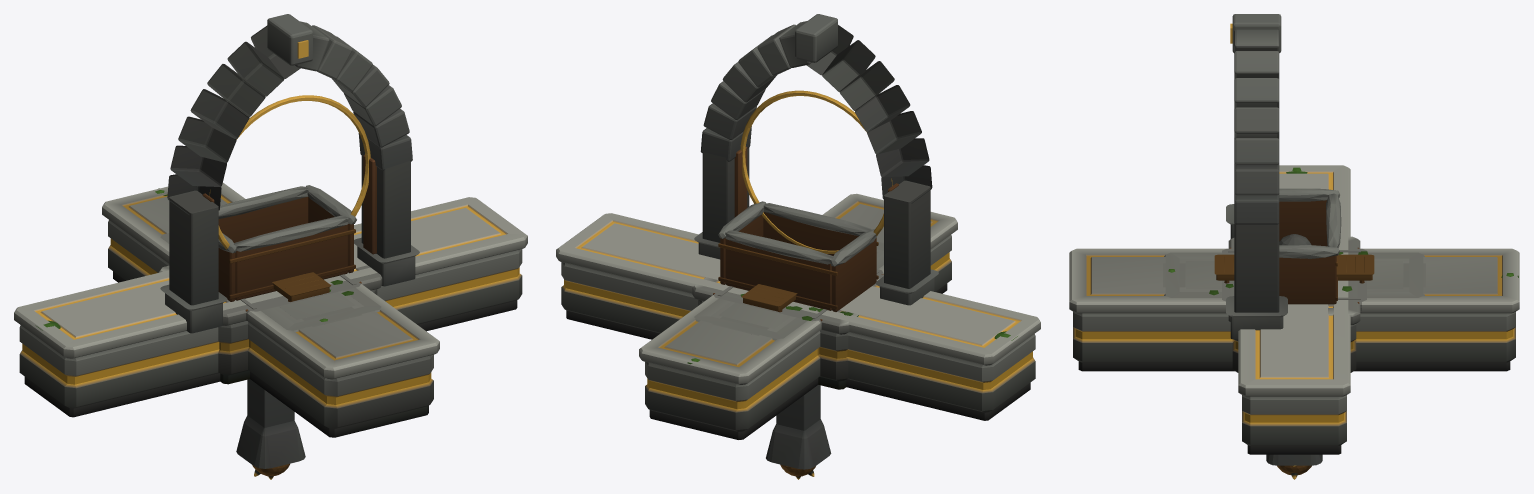
The model's file is temple-2-Drd0SEzF.glb.
3 renders of one model, left to right at view 1: azimuth 30°, elevation 25°; view 2: azimuth 150°, elevation 25°; view 3: azimuth 270°, elevation 25°, orthographic. The views are drawn at different scales.
Parts seen in each view (by area): view 1: block_28x2x6#0, portal_#0, block_7x2x24#0, hopper_6x3#0, support_0_square#0, block_10x2x7#0, block_6x2x14#0, burner_2x1.2x8#0; view 2: block_28x2x6#0, portal_#0, block_7x2x24#0, hopper_6x3#0, support_0_square#0, block_10x2x7#0, block_6x2x14#0, burner_2x1.2x8#0; view 3: block_7x2x24#0, block_28x2x6#0, portal_#0, hopper_6x3#0, block_6x2x14#0, burner_2x1.2x8#0, block_10x2x7#0, support_0_square#0, block_7x2x8#0, beam_3x2x14#0.
Boxes of the visible parts, box(x1,y1,x2,y2) form: block_28x2x6#0: box(14, 197, 527, 417); portal_#0: box(160, 14, 419, 333); block_7x2x24#0: box(102, 182, 439, 437); hopper_6x3#0: box(218, 185, 356, 301); support_0_square#0: box(236, 379, 305, 468); block_10x2x7#0: box(158, 265, 382, 384); block_6x2x14#0: box(160, 233, 381, 332); burner_2x1.2x8#0: box(272, 272, 331, 301); block_28x2x6#0: box(556, 213, 1040, 420); portal_#0: box(694, 14, 938, 305); block_7x2x24#0: box(639, 193, 957, 439); hopper_6x3#0: box(718, 201, 878, 311); support_0_square#0: box(766, 385, 831, 469); block_10x2x7#0: box(692, 273, 883, 389); block_6x2x14#0: box(694, 243, 883, 340); burner_2x1.2x8#0: box(741, 284, 797, 312); block_7x2x24#0: box(1069, 248, 1519, 371); block_28x2x6#0: box(1238, 165, 1350, 454); portal_#0: box(1226, 14, 1287, 339); hopper_6x3#0: box(1279, 188, 1341, 304); block_6x2x14#0: box(1164, 252, 1424, 297); burner_2x1.2x8#0: box(1214, 254, 1374, 283); block_10x2x7#0: box(1228, 236, 1360, 372); support_0_square#0: box(1266, 454, 1322, 465); block_7x2x8#0: box(1222, 248, 1366, 341); beam_3x2x14#0: box(1163, 263, 1425, 287).
Size of the model in its own units: 28 by 27.07 by 24.
